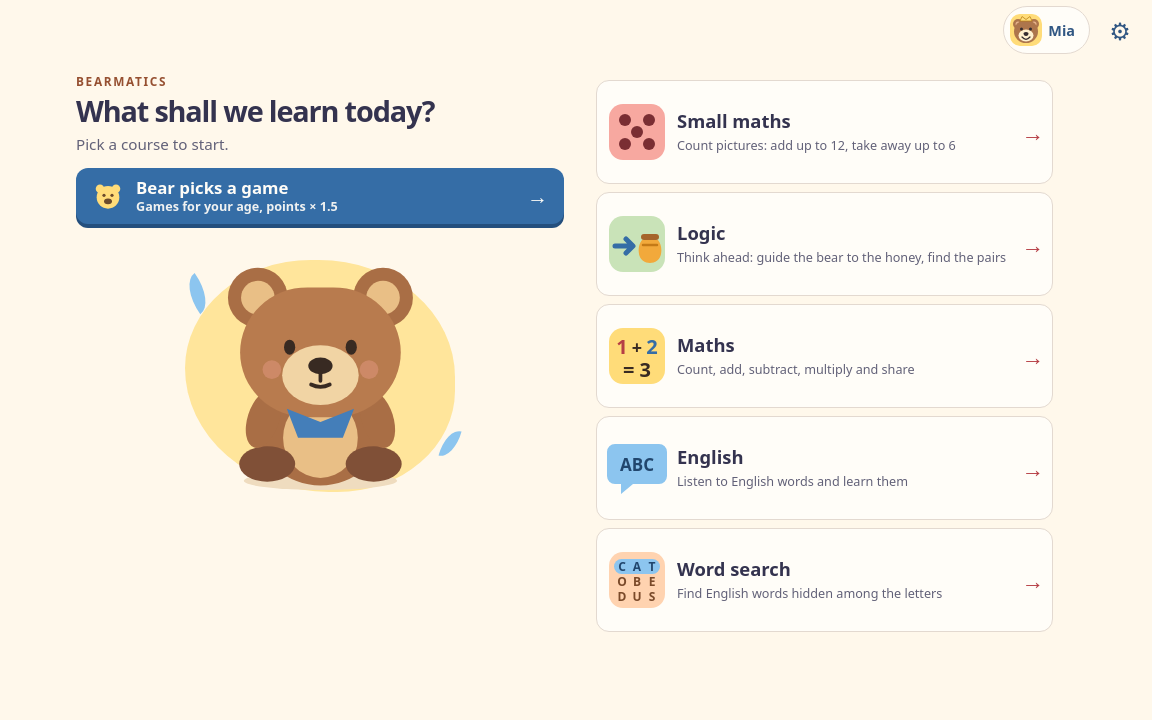
Test: SCRUM-281: profile Leaderboard window saves only on Save; row says No; hidden note in the window
The width and height of the screenshot is (1152, 720).
Click the button with aria-label "Your profile: Mia" at (1047,30), box [1003,6,1090,54]
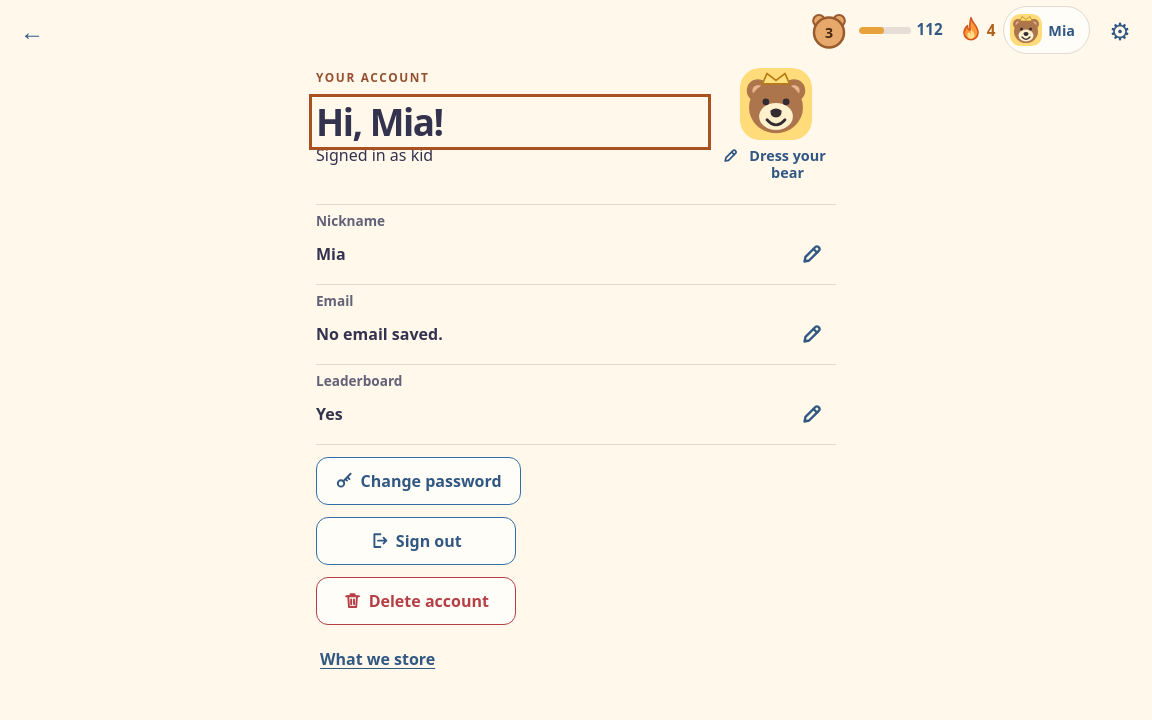
Now the element named "Change leaderboard" reads "Leaderboard Yes", box [316,365,836,445]
Click the button named "Change leaderboard" at (812,414), box [788,390,836,438]
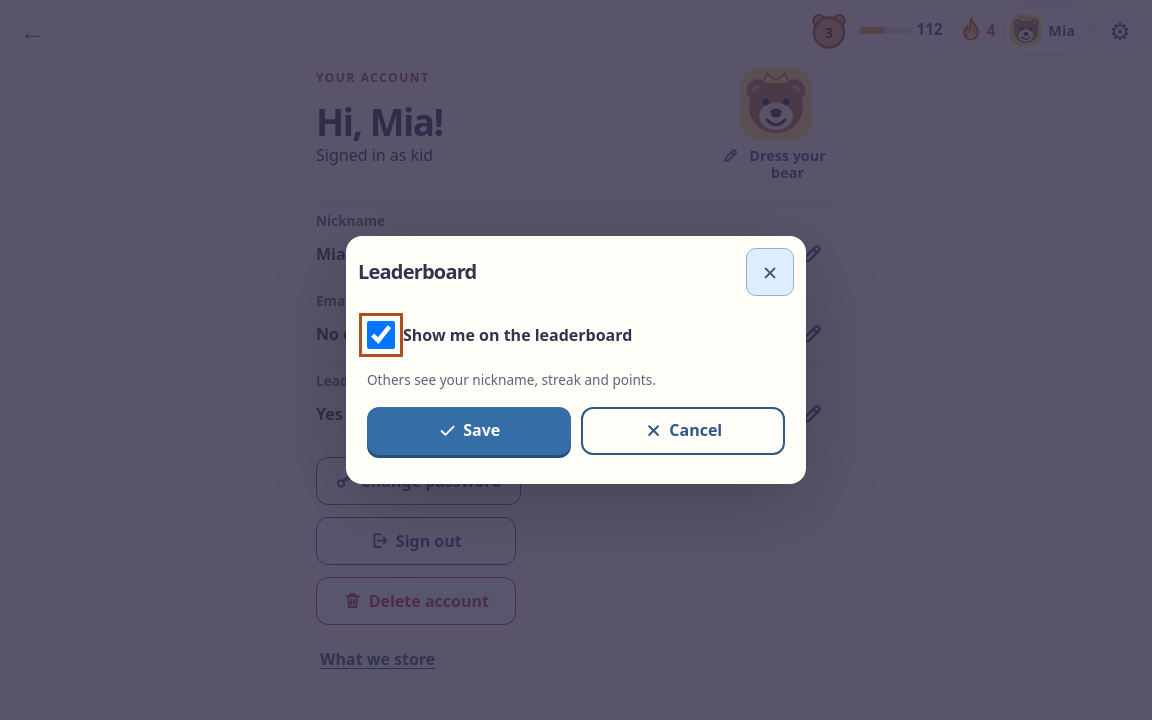
Now the checkbox labelled "Show me on the leaderboard" is checked
Click the checkbox labelled "Show me on the leaderboard" at (381,335), box [367,321,395,349]
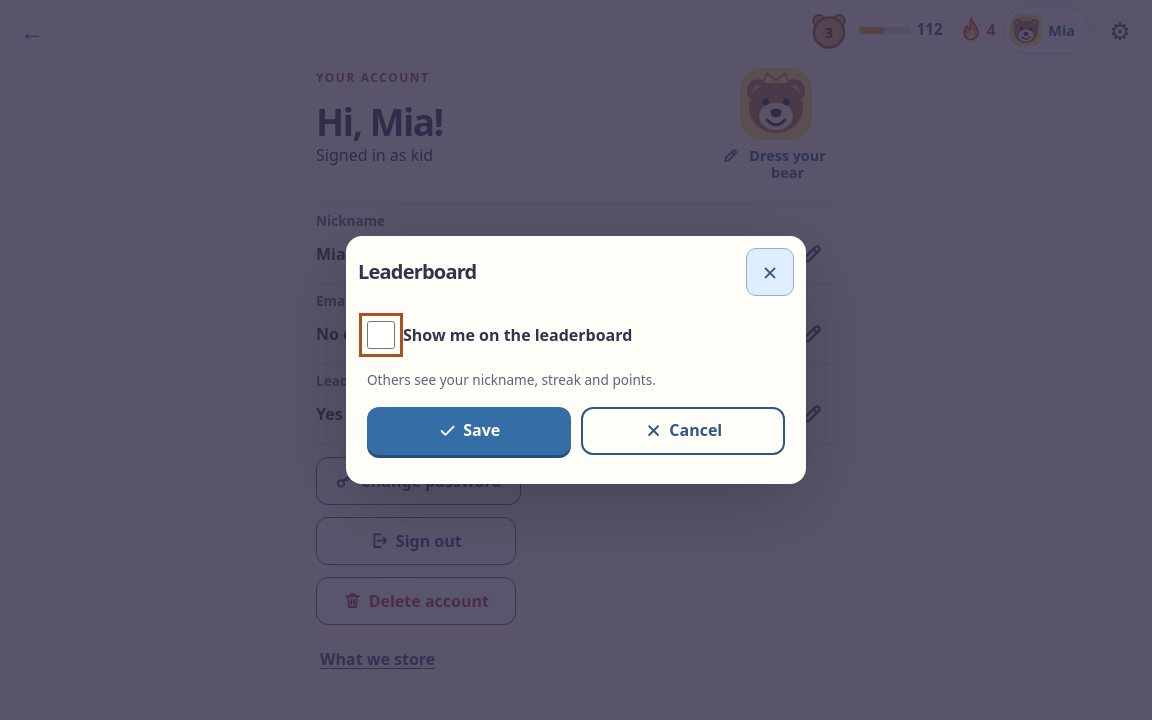
Click the button "Save" at (469,431), box [367,407,571,455]
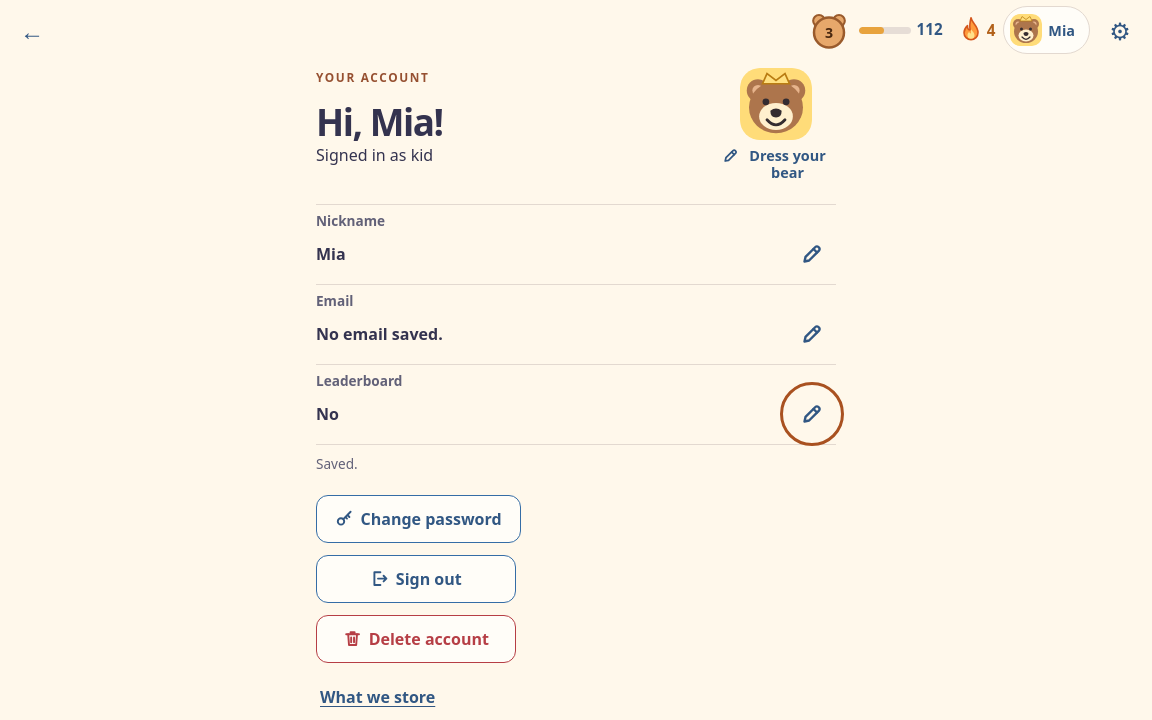
Now the dialog is gone
Now the element named "Change leaderboard" reads "Leaderboard No", box [316,365,836,445]
Now the message reads "Saved.", box [316,454,358,473]
Click the button named "Leaderboard, 112 points" at (901,30), box [857,6,945,54]
(page scrolled)
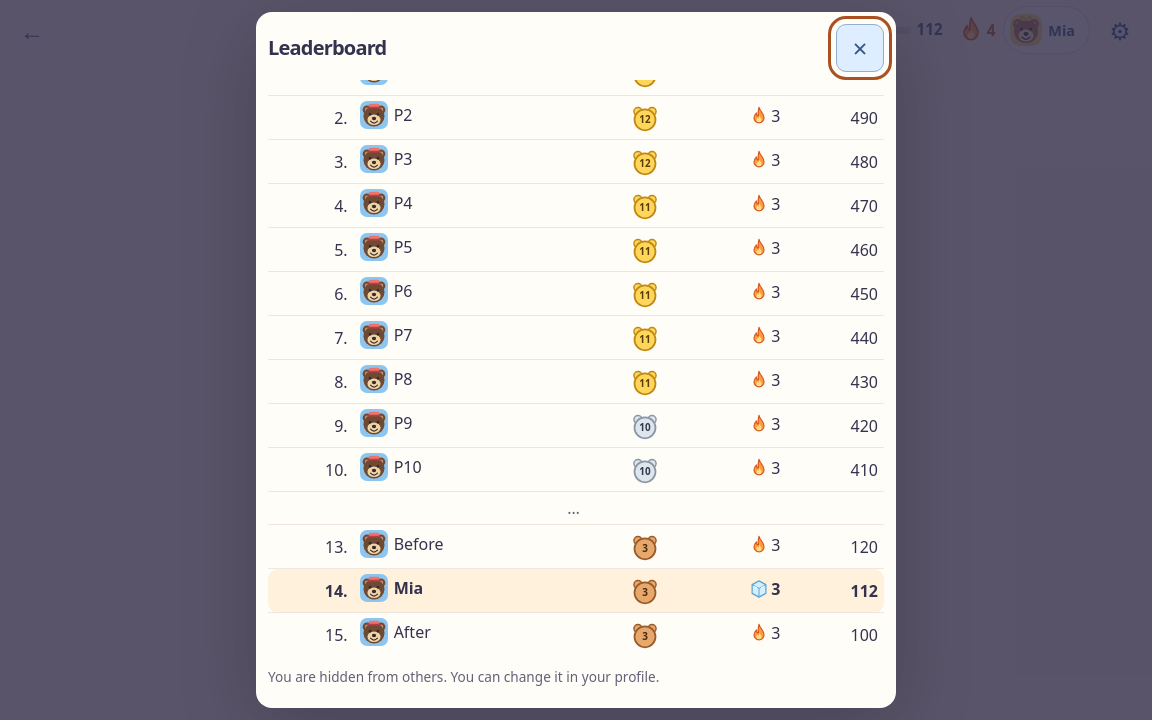
Now the text "You are hidden from others. You can change it in your profile." is shown, box [268,667,659,686]
